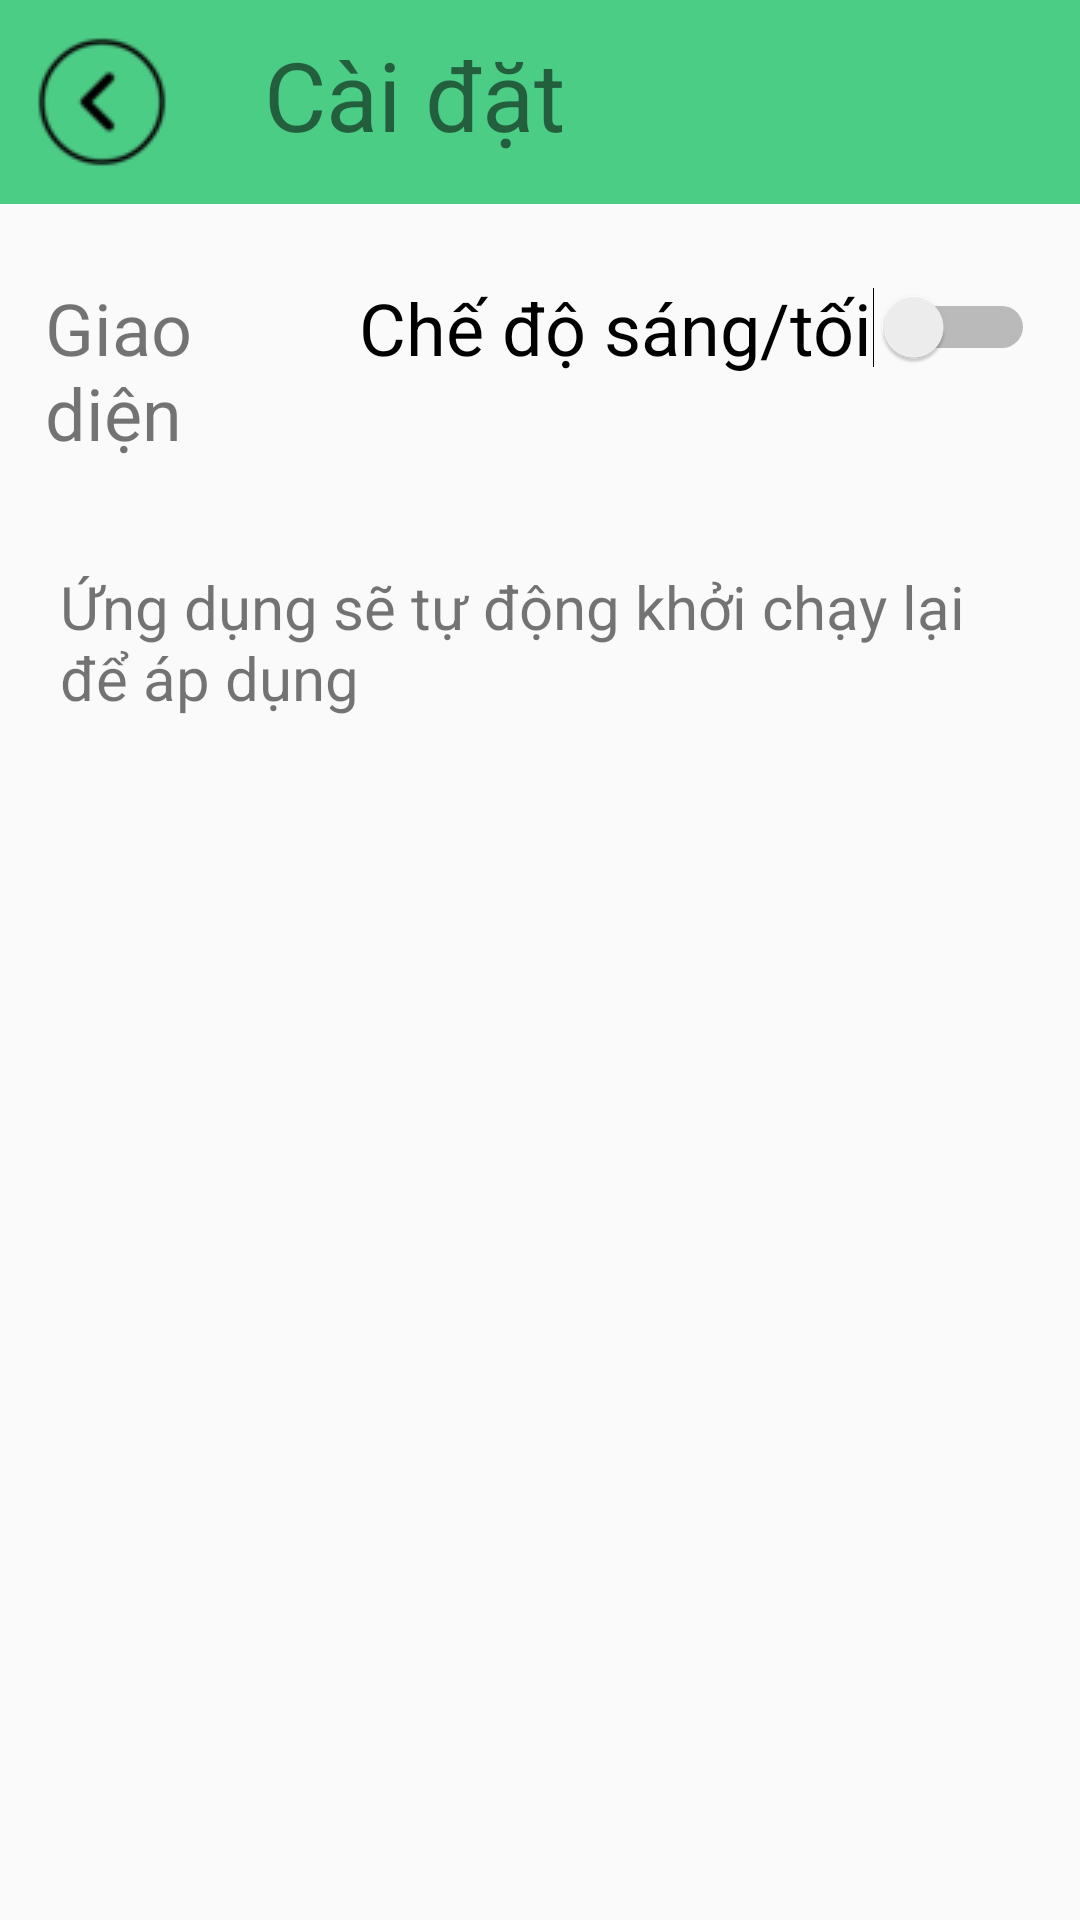

Named icons in this screenshot (1080x1920) and their centers, (x=x, y=y):
back: (x=102, y=102)
